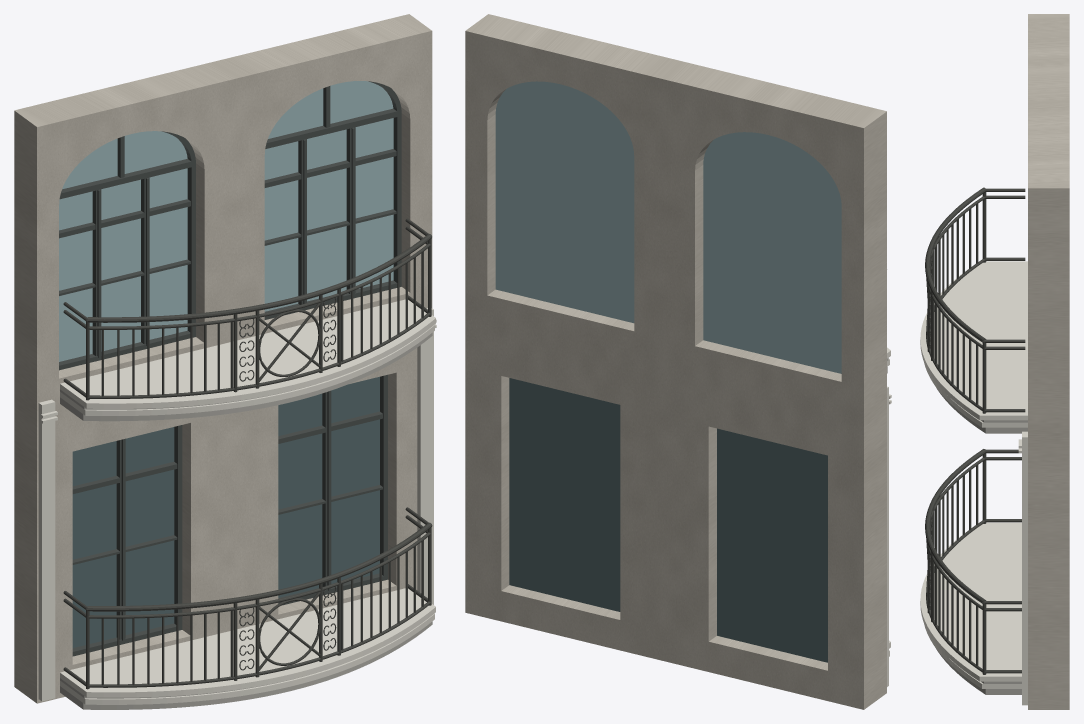
The model's file is inland-mission-curved-iron-balconies-near.glb.
The picture shows the model from 3 angles, left to right: view 1: azimuth 30°, elevation 25°; view 2: azimuth 150°, elevation 25°; view 3: azimuth 270°, elevation 25°; orthographic projection. The views are drawn at different scales.
Parts seen in each view (by area): view 1: 基督教内地会旧址北楼弧形挑台与交叉圆环铁栏; view 2: 基督教内地会旧址北楼弧形挑台与交叉圆环铁栏; view 3: 基督教内地会旧址北楼弧形挑台与交叉圆环铁栏.
Boxes of the visible parts, x1,y1,x2,y2 form: 基督教内地会旧址北楼弧形挑台与交叉圆环铁栏: (14,14,436,709); 基督教内地会旧址北楼弧形挑台与交叉圆环铁栏: (465,14,891,709); 基督教内地会旧址北楼弧形挑台与交叉圆环铁栏: (920,14,1069,709).
Size of the model in its own units: 3.88 by 5.41 by 1.4.
Materials: 7 (1 with a texture image).
